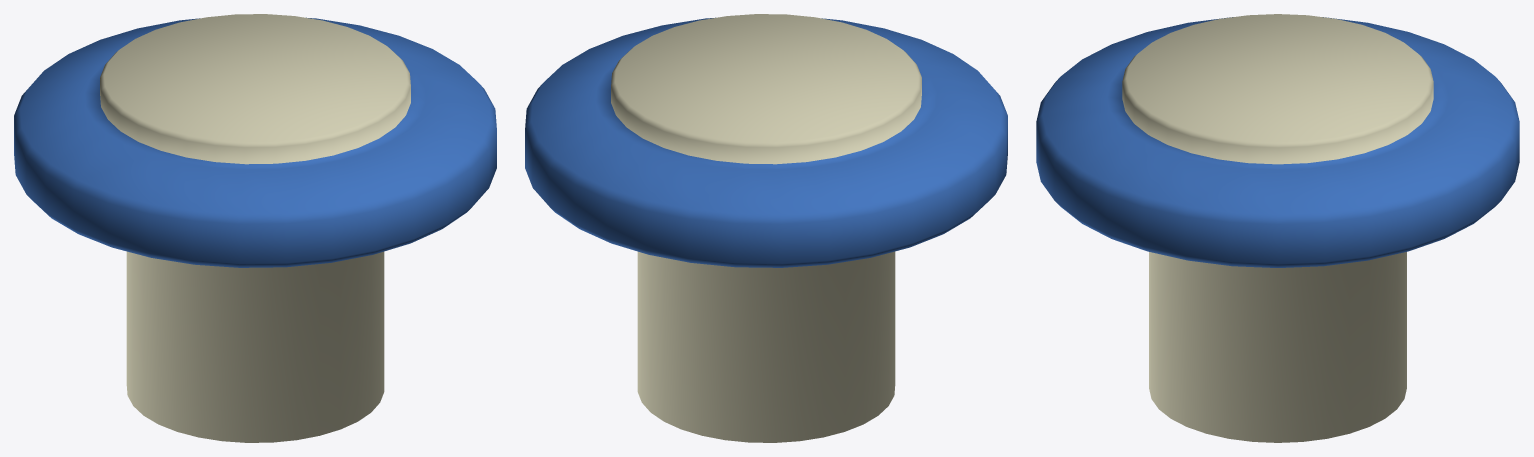
File: pinball_bumper.gltf
3 renders of one model, left to right at view 1: azimuth 30°, elevation 25°; view 2: azimuth 150°, elevation 25°; view 3: azimuth 270°, elevation 25°, orthographic.
Visible parts, largest first — view 1: bumper; view 2: bumper; view 3: bumper.
Part boxes in pixels (box(x1,y1,x2,y2)): bumper: box(14, 14, 496, 442); bumper: box(525, 14, 1007, 442); bumper: box(1036, 14, 1519, 442).
Bounding box in the file's own units: 0.24 × 0.17 × 0.24.
